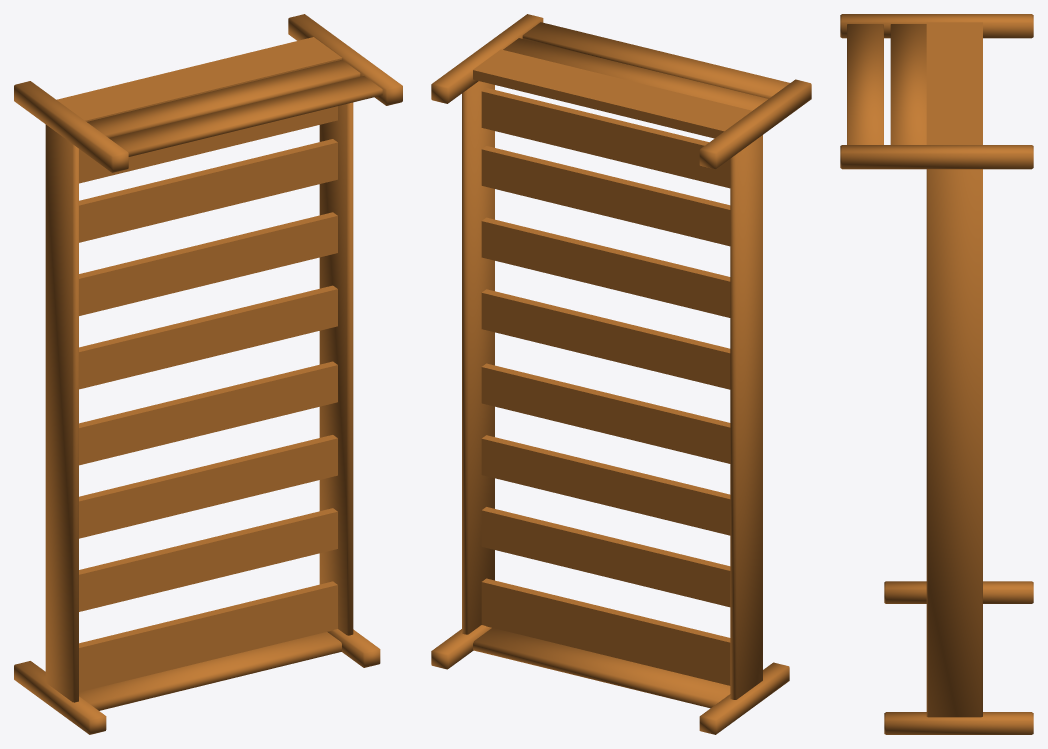
File: MeshBed_26_2_0.obj
The picture shows the model from 3 angles, left to right: view 1: azimuth 30°, elevation 25°; view 2: azimuth 150°, elevation 25°; view 3: azimuth 270°, elevation 25°; orthographic projection. The views are drawn at different scales.
Visible parts, largest first — view 1: Bed_26_2; view 2: Bed_26_2; view 3: Bed_26_2.
Boxes of the visible parts, x1,y1,x2,y2 form: Bed_26_2: (14, 14, 402, 734); Bed_26_2: (431, 14, 811, 734); Bed_26_2: (840, 14, 1033, 734).
Bounding box in the file's own units: 1.21 × 2.35 × 0.7065.
